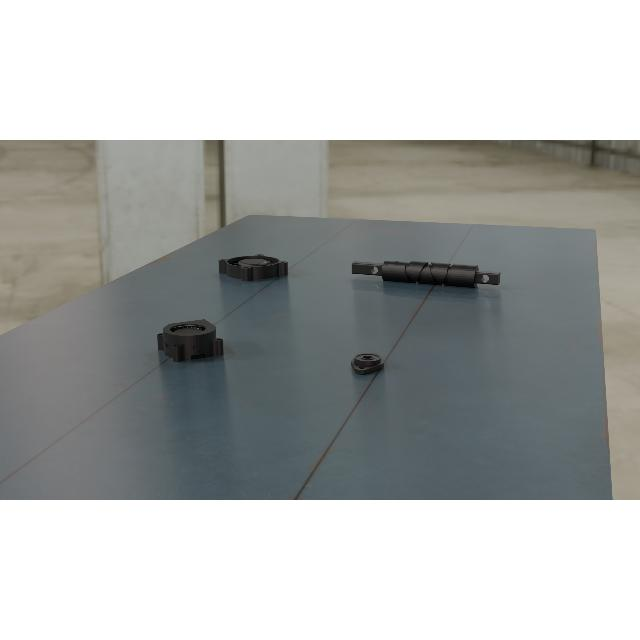Pieza1: (350, 255, 502, 292)
Pieza2: (344, 348, 390, 376)
Pieza3: (154, 320, 226, 364)
Pieza4: (216, 254, 290, 282)
